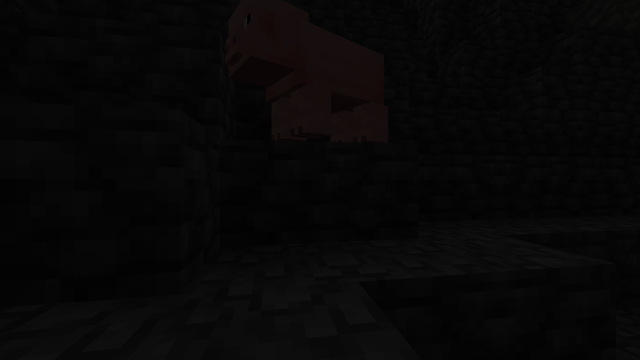cochons: (279, 17, 388, 144)
